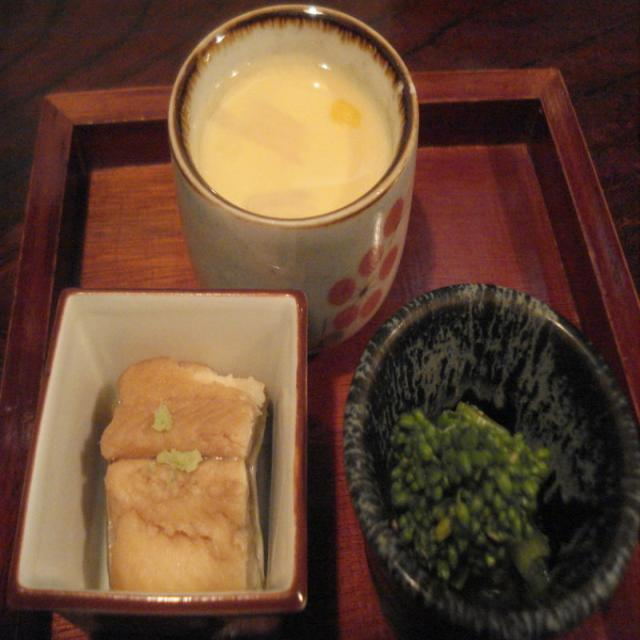鸡蛋料理: (162, 0, 418, 401)
